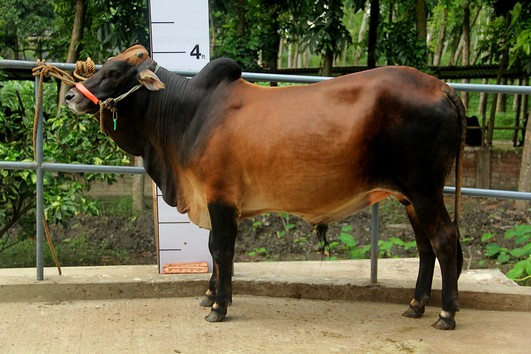cow: (57, 40, 468, 335)
